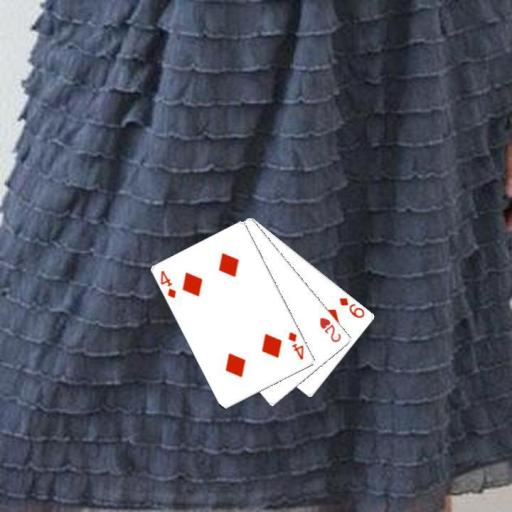2H: (316, 314, 343, 344)
4D: (285, 329, 306, 361), (158, 267, 178, 300)
9D: (337, 294, 367, 320)
